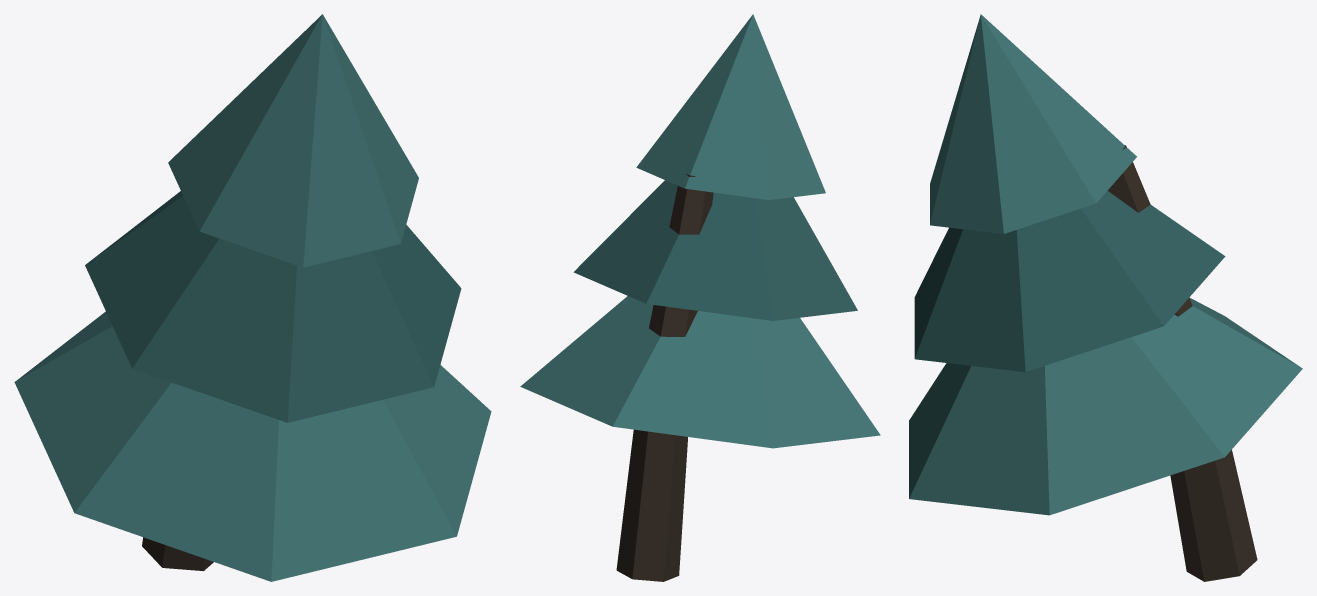
File: windswept_pine.glb
The picture shows the model from 3 angles, left to right: view 1: azimuth 30°, elevation 25°; view 2: azimuth 150°, elevation 25°; view 3: azimuth 270°, elevation 25°; orthographic projection. The views are drawn at different scales.
Visible parts, largest first — view 1: windswept_pine; view 2: windswept_pine; view 3: windswept_pine.
Part boxes in pixels (x1,y1,x2,y2): windswept_pine: [14, 14, 491, 581]; windswept_pine: [520, 14, 880, 581]; windswept_pine: [909, 14, 1302, 581].
Size of the model in its own units: 3.7 by 5.47 by 3.5.
